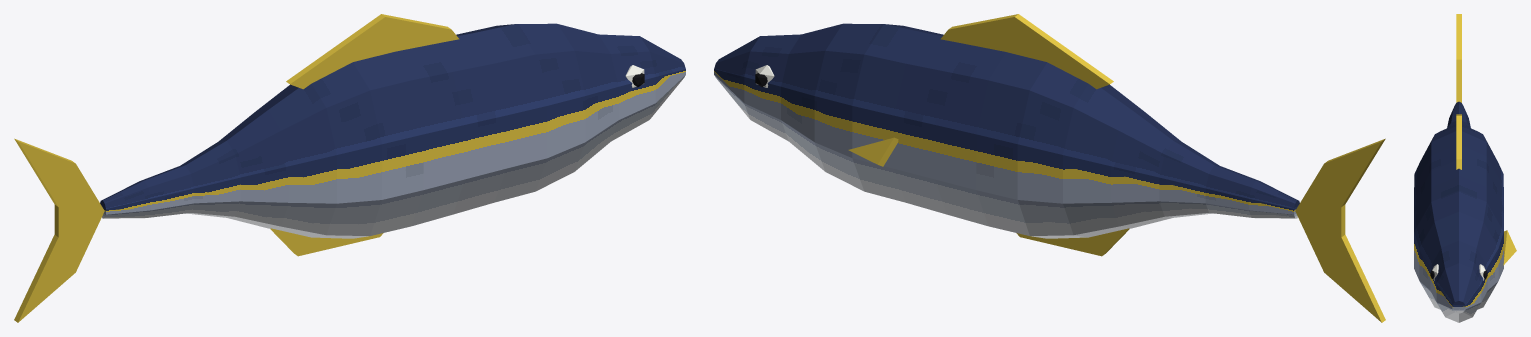
The model's file is yellowfin_tuna.glb.
3 renders of one model, left to right at view 1: azimuth 30°, elevation 25°; view 2: azimuth 150°, elevation 25°; view 3: azimuth 270°, elevation 25°, orthographic. The views are drawn at different scales.
Parts seen in each view (by area): view 1: fish_yellowfin_tuna; view 2: fish_yellowfin_tuna; view 3: fish_yellowfin_tuna.
Boxes of the visible parts, x1=… form: fish_yellowfin_tuna: x1=14, y1=14, x2=685, y2=322; fish_yellowfin_tuna: x1=714, y1=14, x2=1385, y2=322; fish_yellowfin_tuna: x1=1414, y1=14, x2=1516, y2=322.
Size of the model in its own units: 1.15 by 0.3617 by 0.2178.
4 materials, 1 textured.
